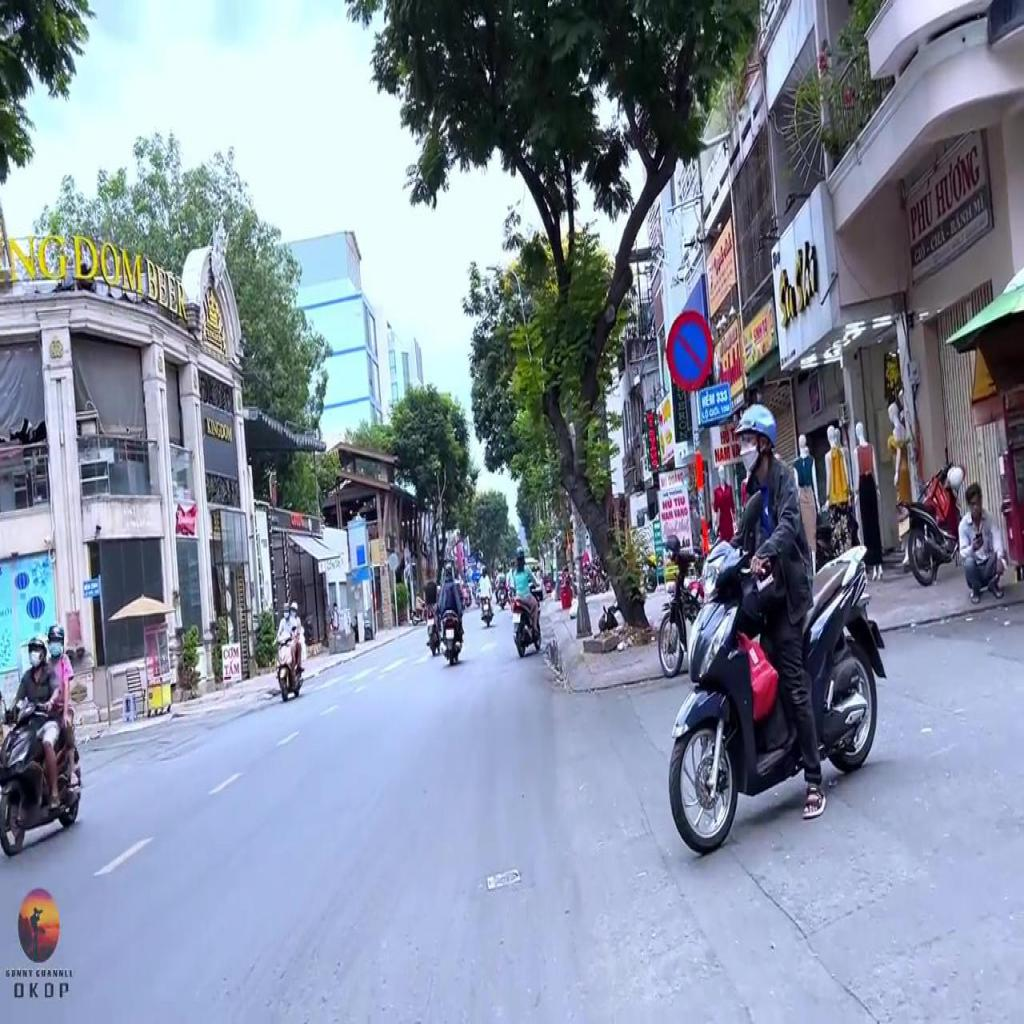cam_do_xe: (667, 310, 713, 390)
